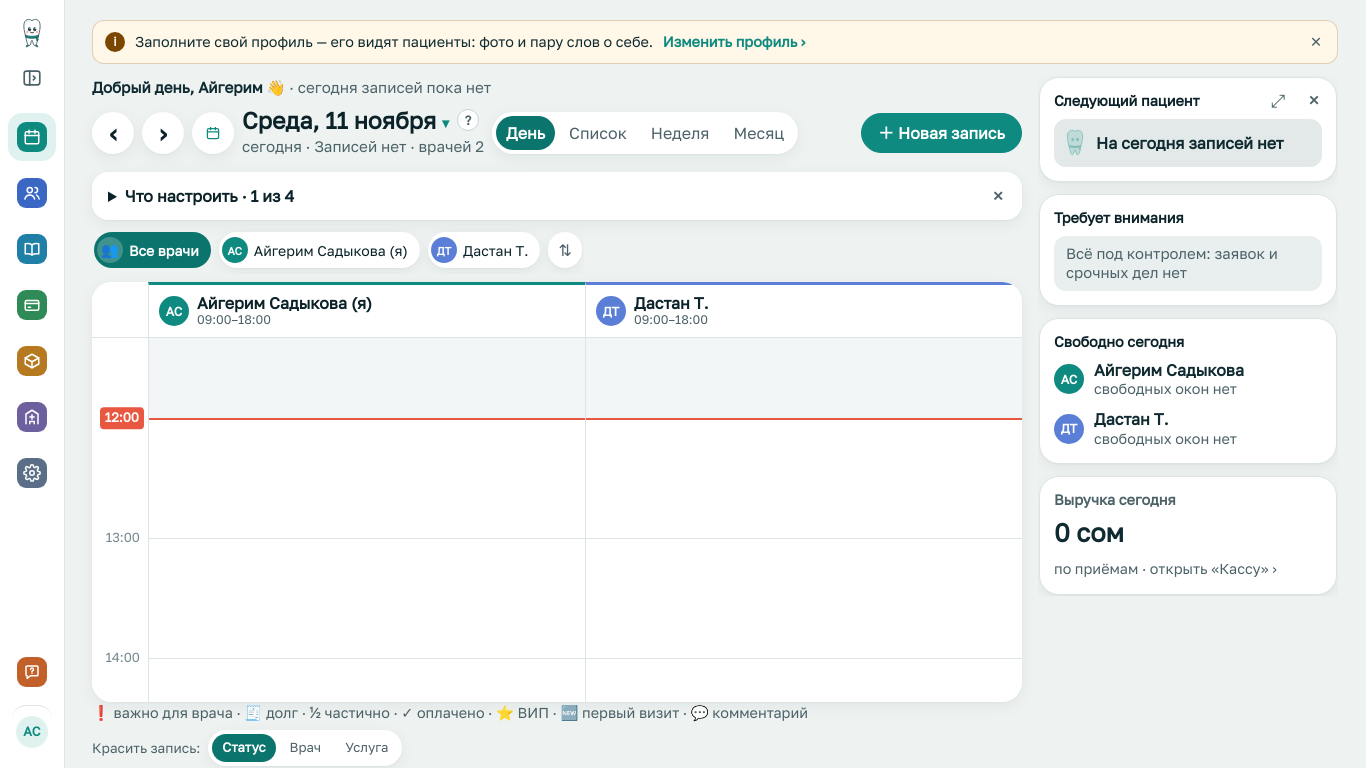
it: «Все врачи»: перетащить в колонку коллеги — /transfer с его doctorId
(page scrolled)
Click the button named "Следующий день" at (163, 132), box [142,112,184,154]
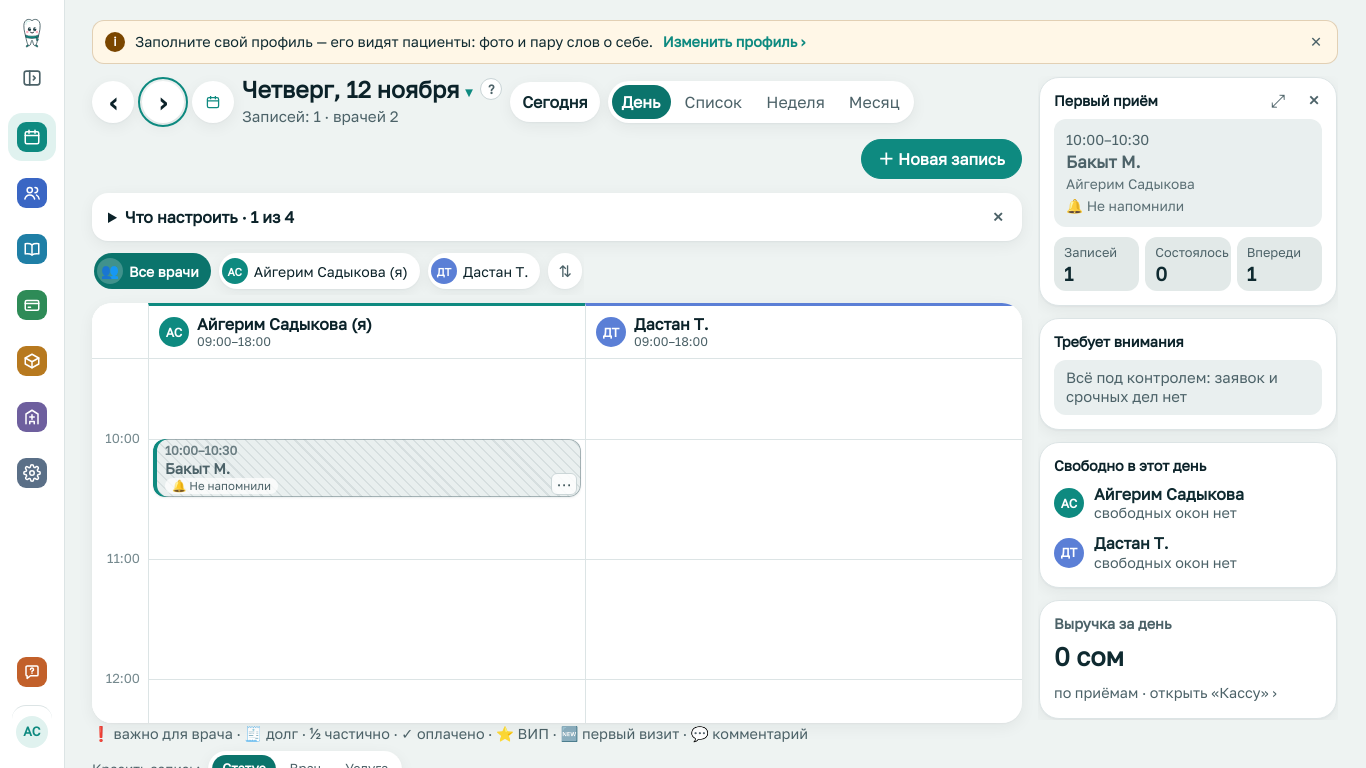
Press the mouse on the button named "Бакыт М." at (367, 468), box [153,440,581,498]
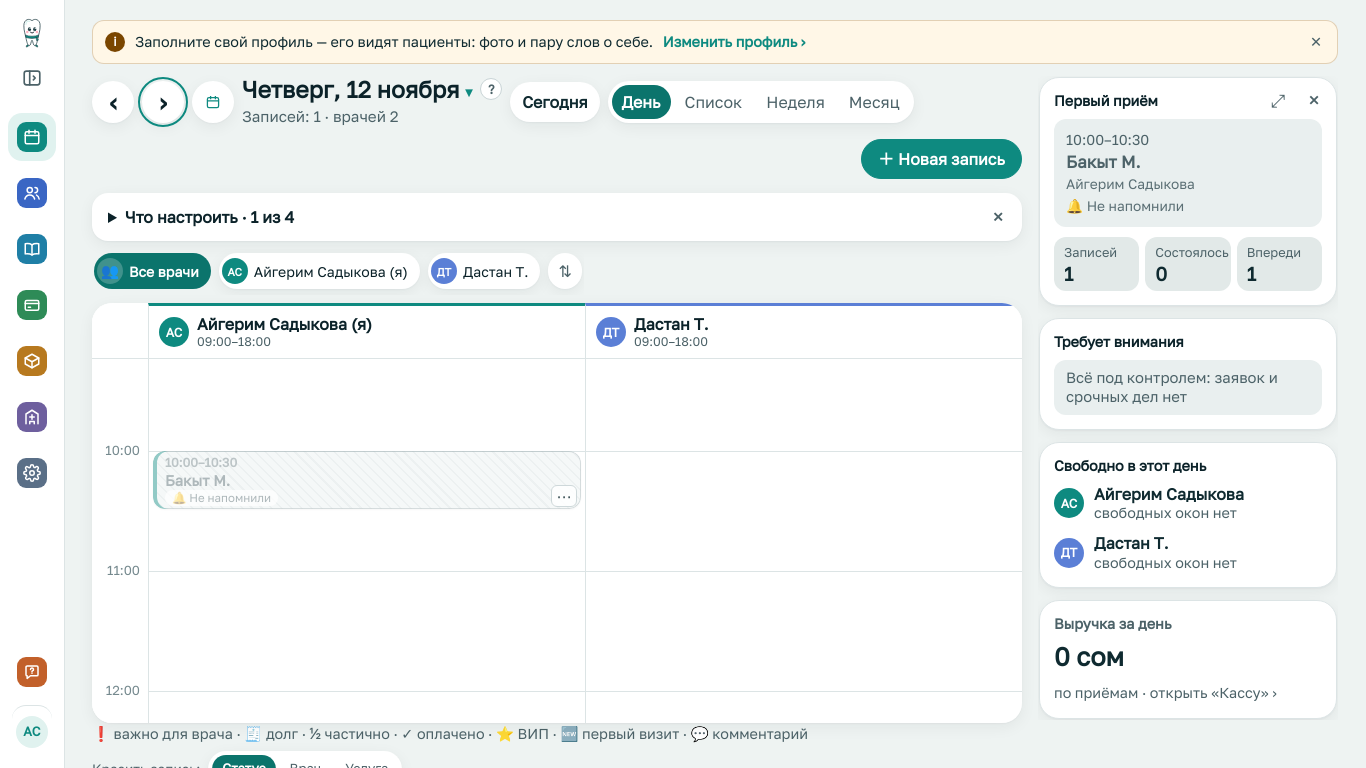
Click the button named "Бакыт М." at (367, 480), box [153,452,581,510]
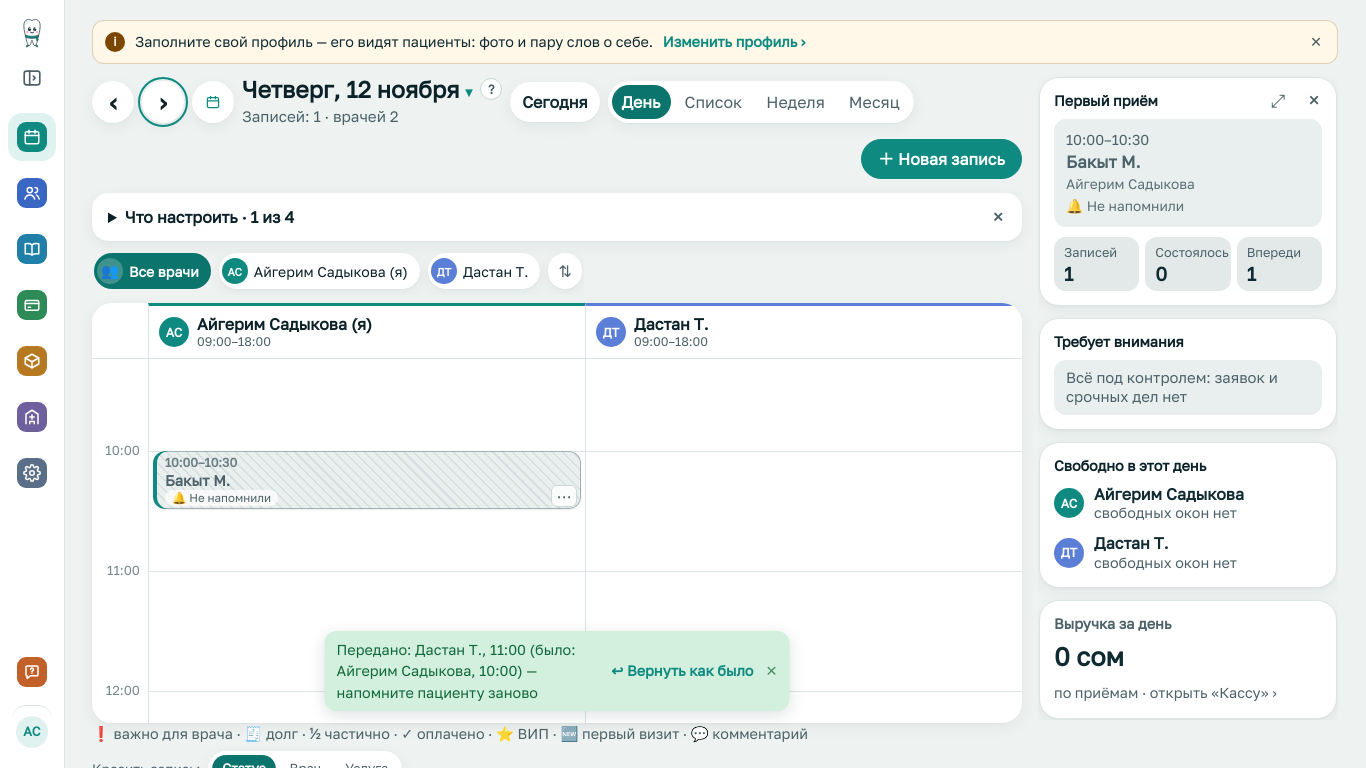
Expected: the text "Передано: Дастан Т., 11:00 (было: Айгерим Садыкова, 10:00)" is shown, [336,641,576,701]
